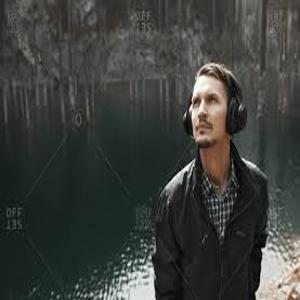Headphones: (181, 69, 247, 136)
